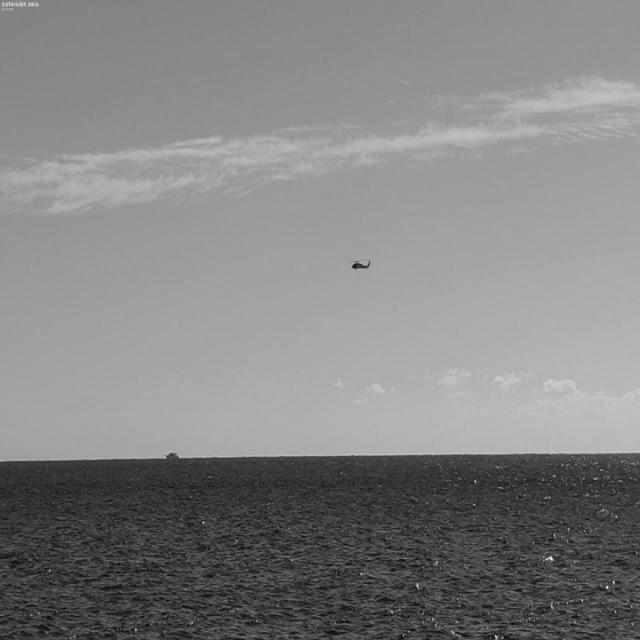helikopter: (338, 239, 396, 301)
